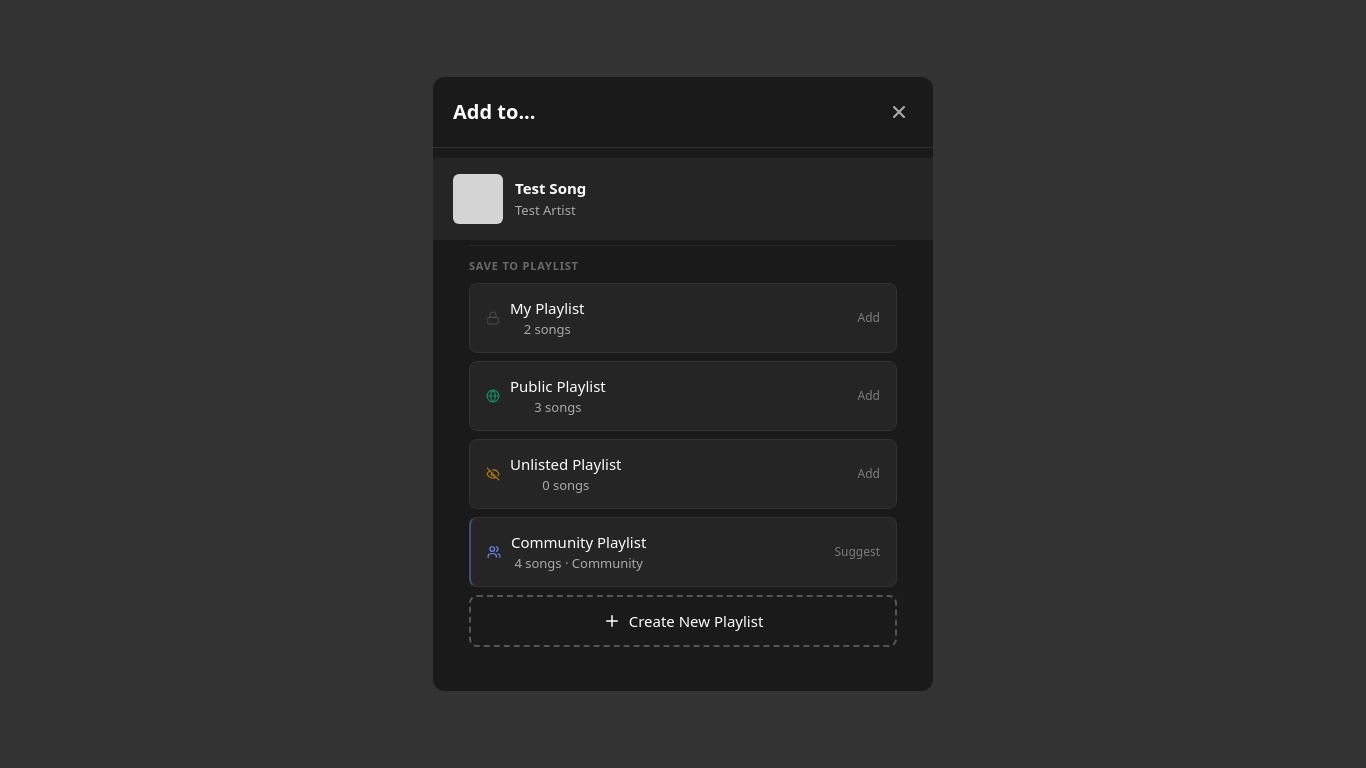
Test case: PlaylistWizard — create playlist › creates a private personal playlist without a cover
(page scrolled)
Click the button "Create New Playlist" at (683, 621), box [469, 595, 897, 647]
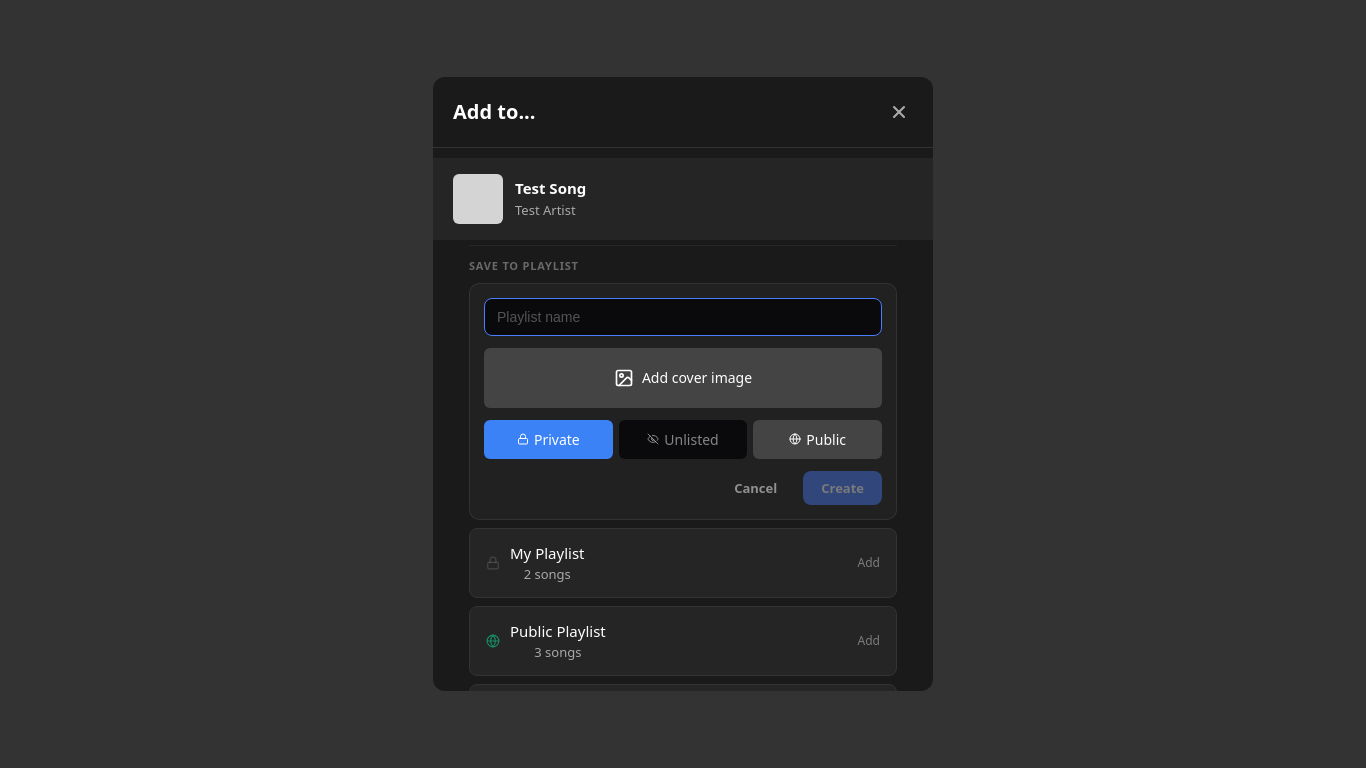
Type "New Playlist" into the field with placeholder "Playlist name" at (683, 317), box [484, 298, 882, 336]
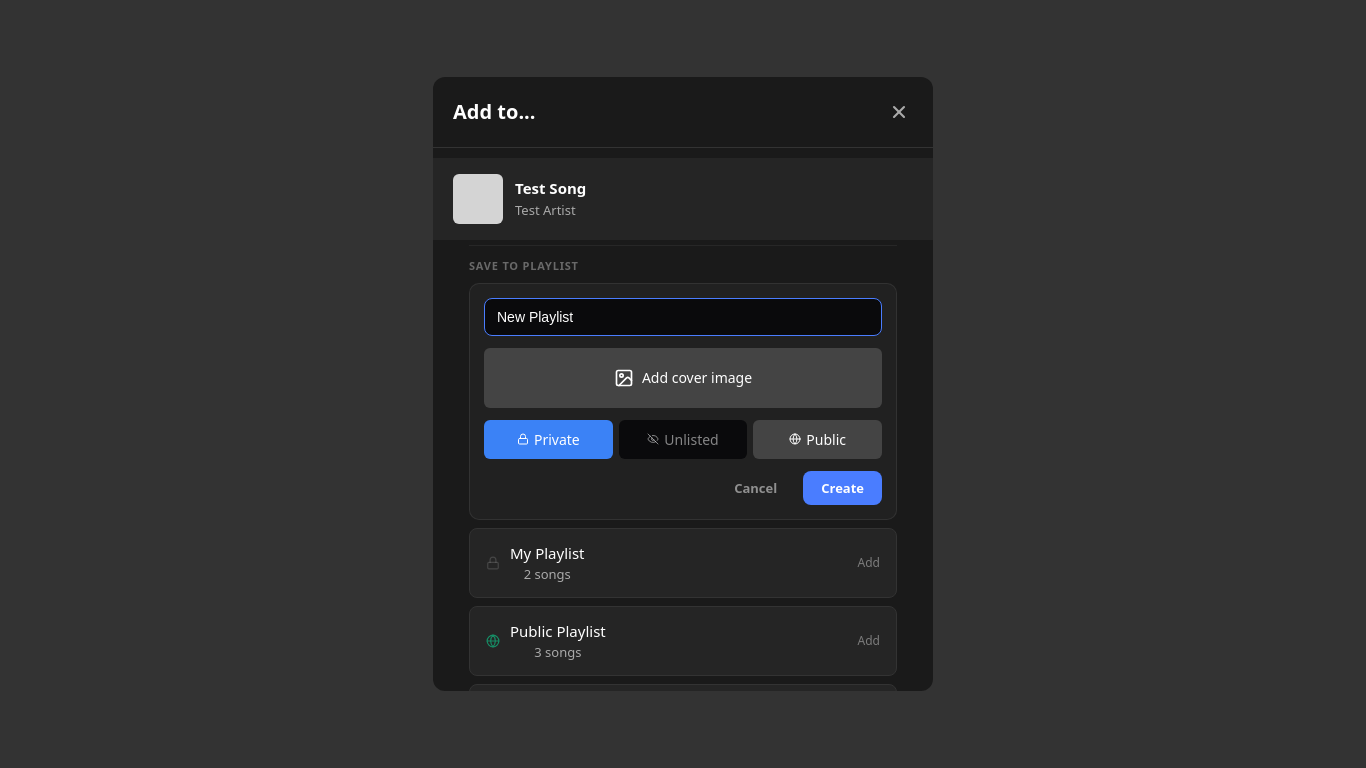
Click the button "Create" at (843, 488), box [803, 471, 882, 505]
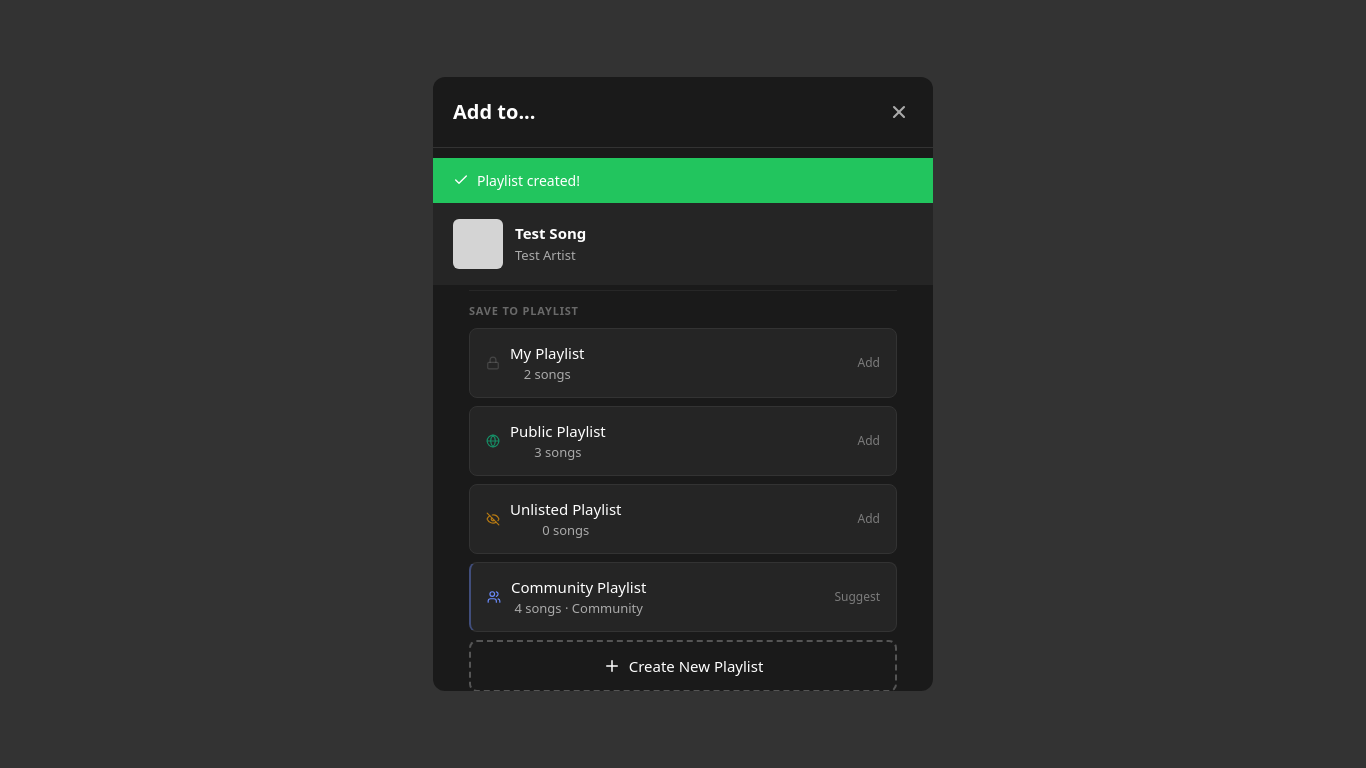
Expected: the text "Playlist created!" is shown, [433, 158, 933, 203]
